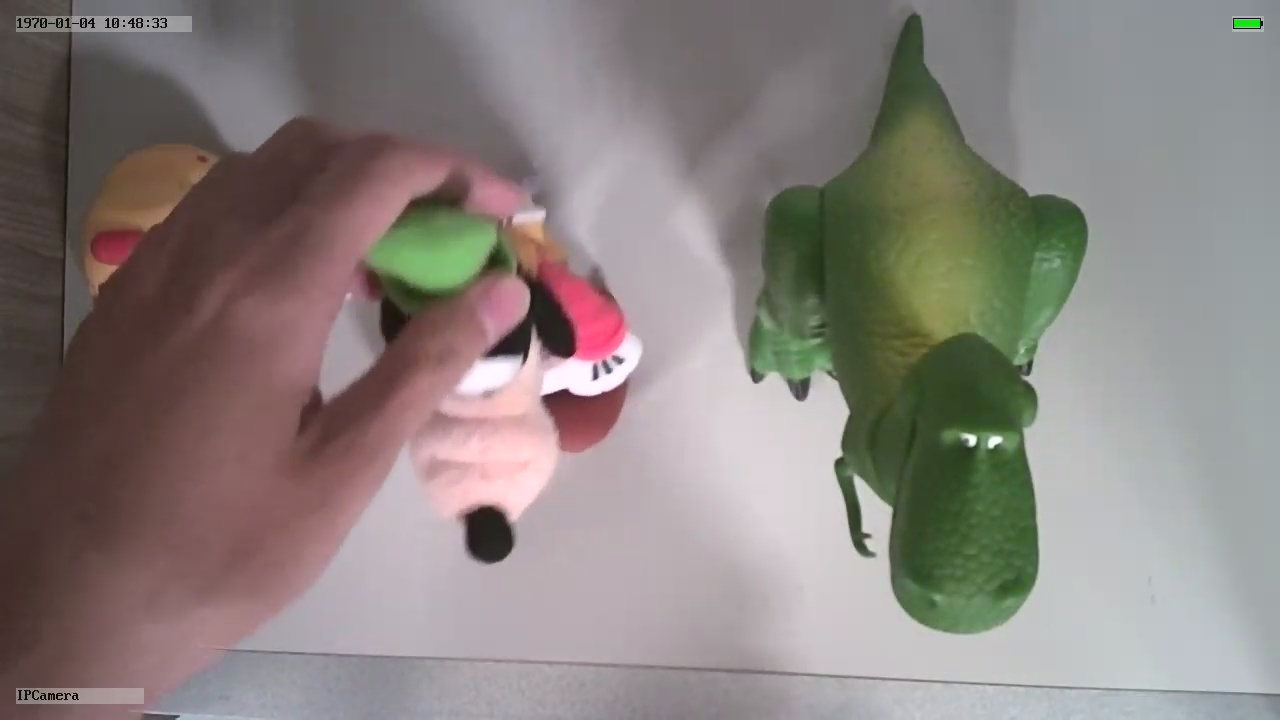rex: (748, 126, 1089, 638)
